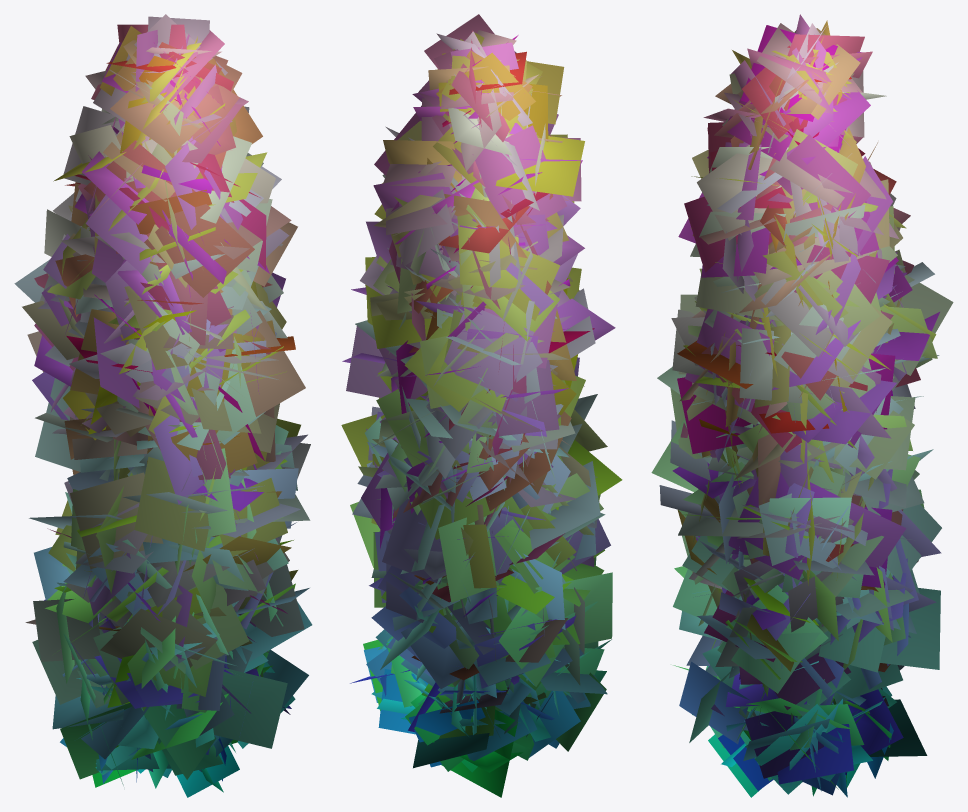
The model's file is tree_medium_columnar_cypress.glb.
The picture shows the model from 3 angles, left to right: view 1: azimuth 30°, elevation 25°; view 2: azimuth 150°, elevation 25°; view 3: azimuth 270°, elevation 25°; orthographic projection. The views are drawn at different scales.
Visible parts, largest first — view 1: Cypress_Foliage_28Groups; view 2: Cypress_Foliage_28Groups; view 3: Cypress_Foliage_28Groups.
Boxes of the visible parts, x1,y1,x2,y2 form: Cypress_Foliage_28Groups: (14, 14, 312, 797); Cypress_Foliage_28Groups: (341, 14, 622, 797); Cypress_Foliage_28Groups: (651, 14, 953, 797).
Size of the model in its own units: 4.8 by 13.05 by 4.61.
